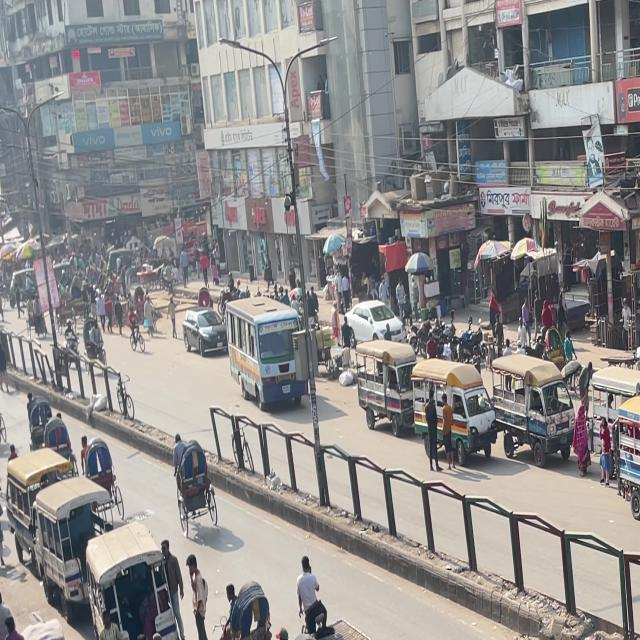bicycle: (115, 374, 137, 422), (127, 326, 149, 354)
car: (181, 306, 234, 371)
van: (76, 522, 184, 640), (486, 345, 577, 477), (222, 292, 308, 415), (410, 352, 501, 468), (353, 335, 419, 444), (302, 612, 379, 640)
